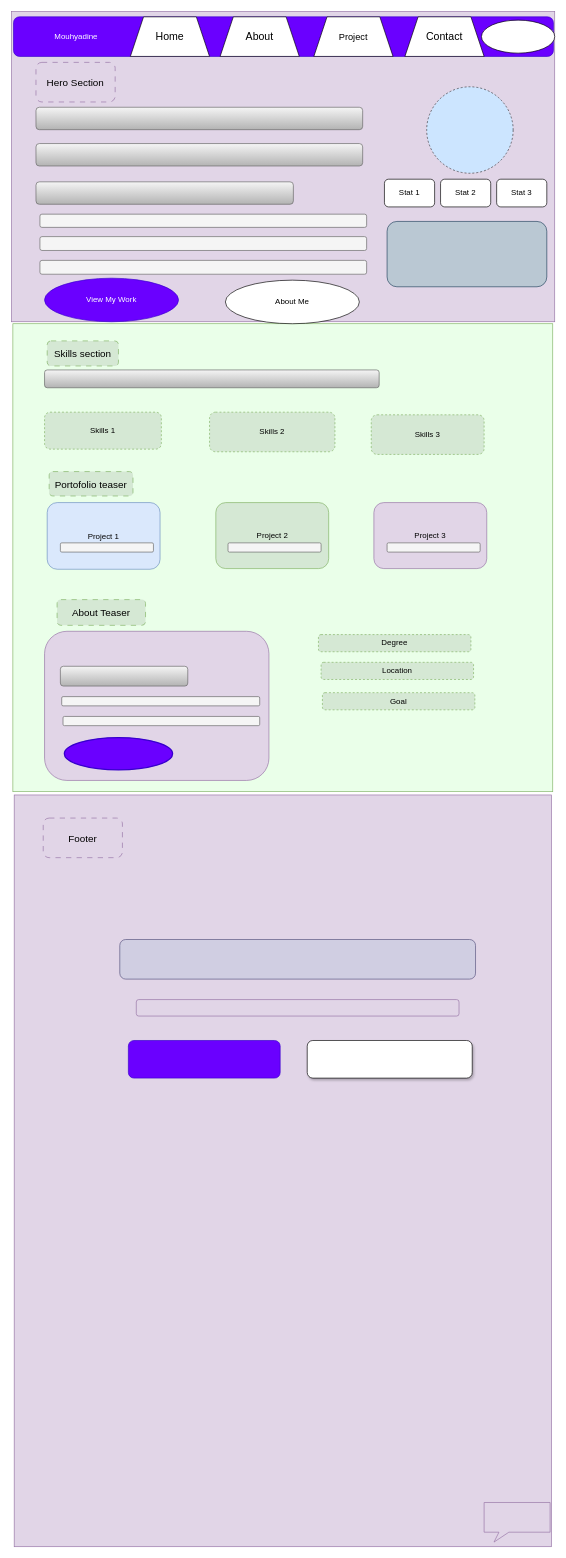
This 566x1558 diagram has some shape labels left out. The centre of each missing label's shape, as x and y in pixels:
Hire Me: (518,36)
Photo: (469,129)
Small interactive JS code block: (466,254)
